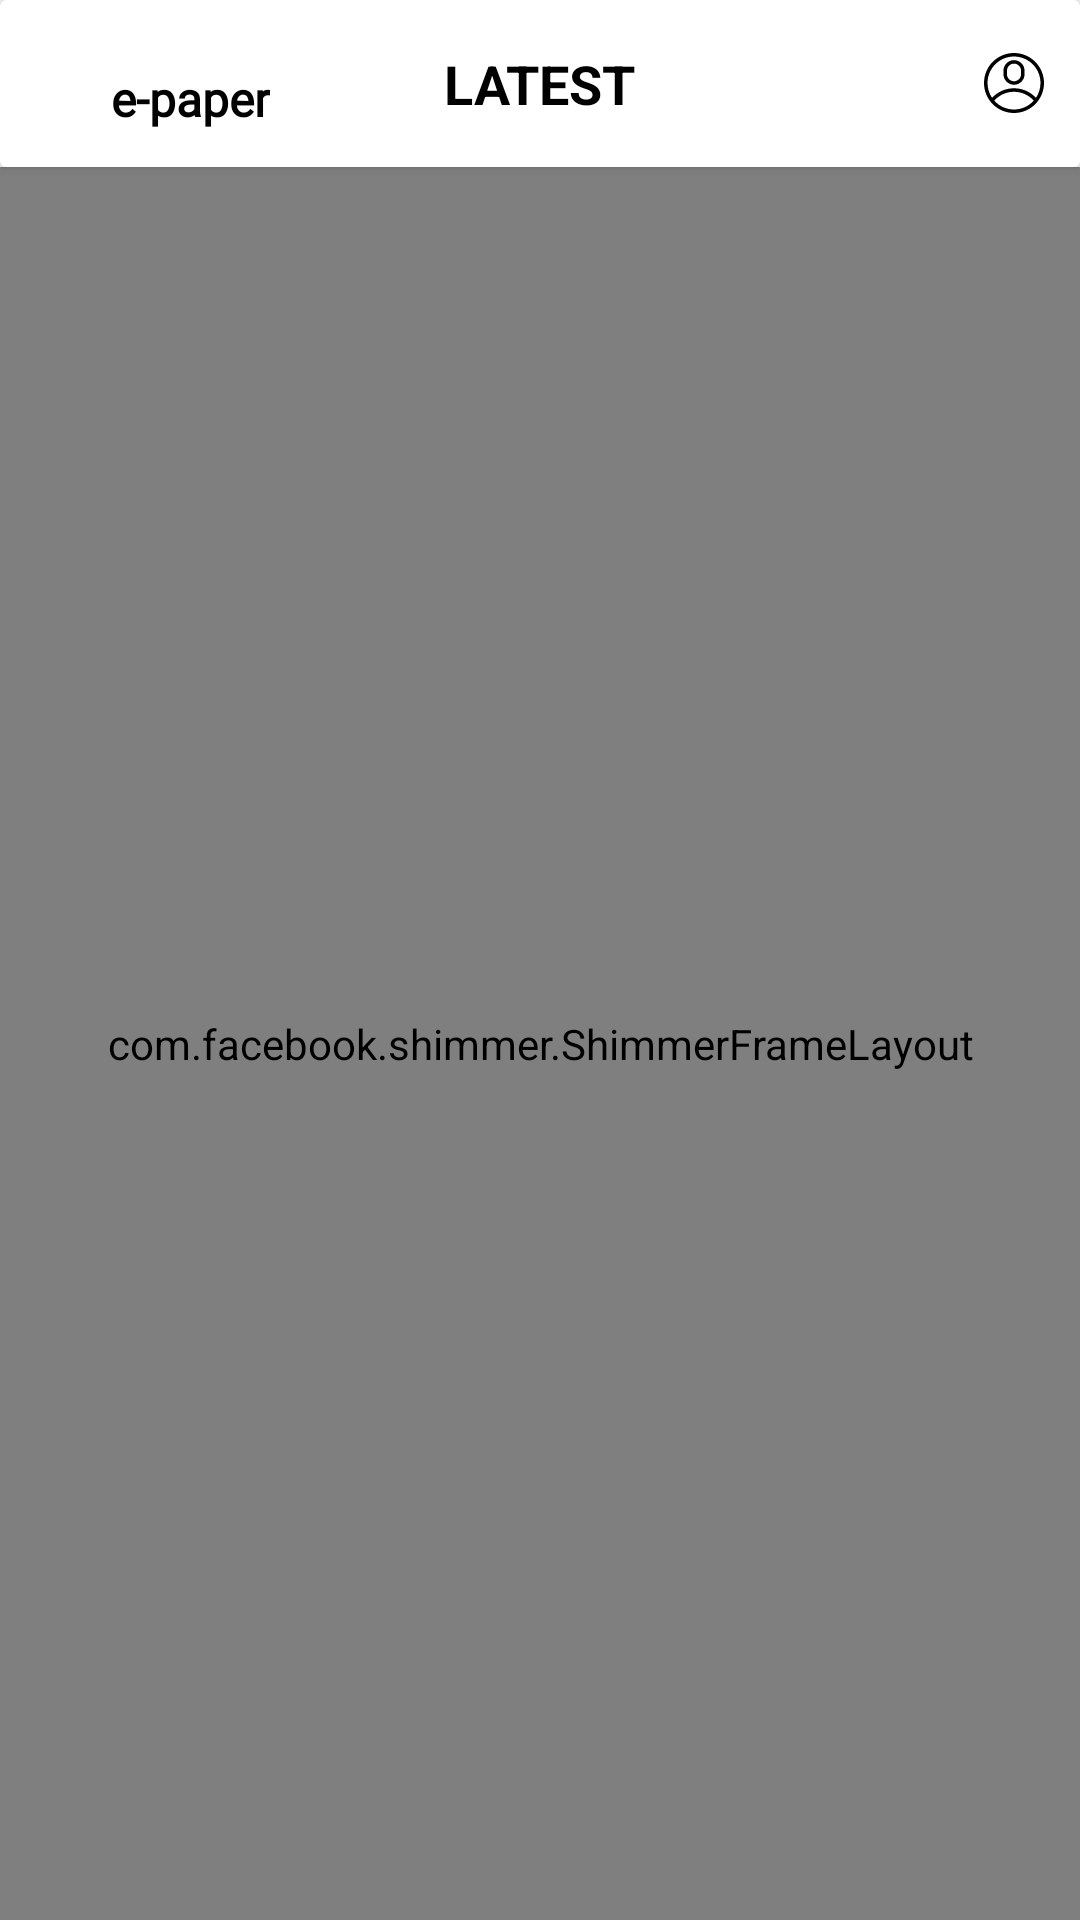

Screen size 1080 × 1920. Icon name, then its center in pixels as (x=x, y=y):
account: (x=1014, y=83)
